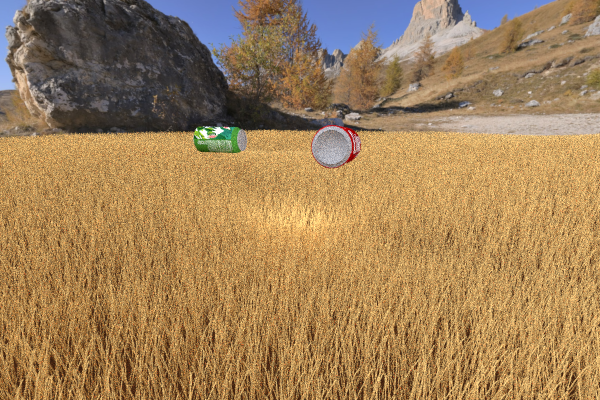Plastic Bottle: (271, 123, 354, 169), (311, 125, 361, 168), (193, 126, 247, 153)
